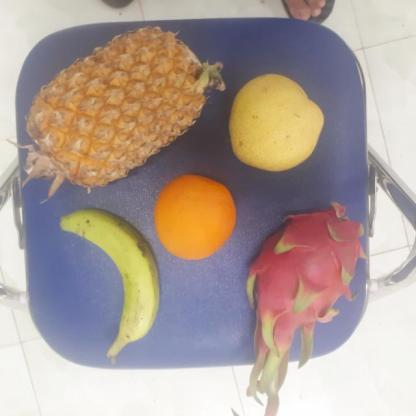banana: (66, 206, 158, 352)
orange: (150, 178, 237, 260)
pear: (224, 73, 328, 174)
pineapple: (19, 26, 210, 194)
pitaya: (241, 204, 371, 356)
